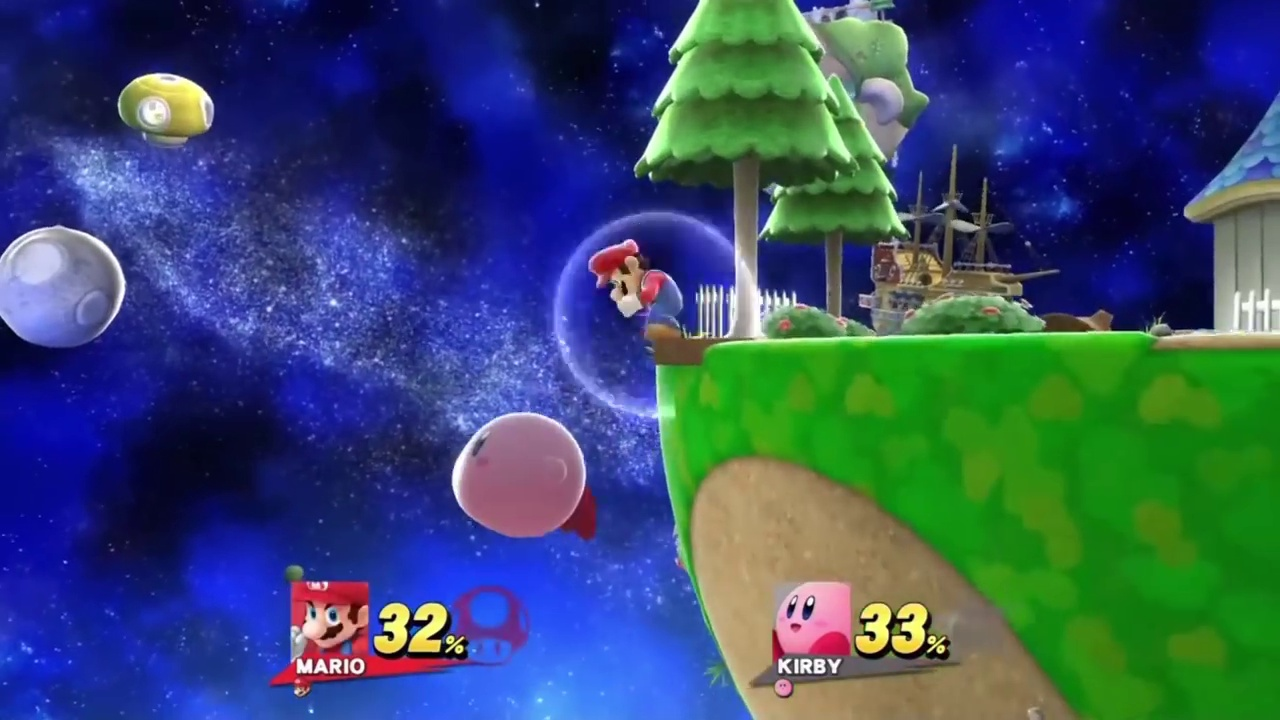Mario: (588, 238, 679, 338)
